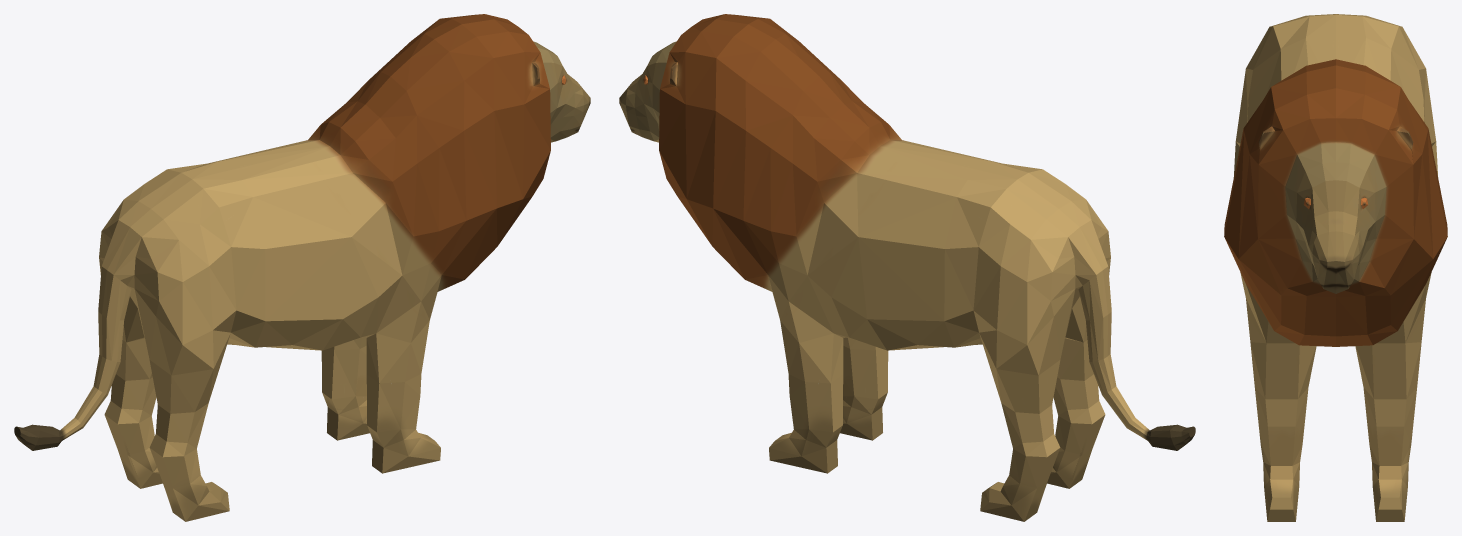
Rendered from Lion.fbx.
3 views of the same model, side by side, from view 1: azimuth 30°, elevation 25°; view 2: azimuth 150°, elevation 25°; view 3: azimuth 270°, elevation 25° (orthographic). The views are drawn at different scales.
Parts seen in each view (by area): view 1: Plane; view 2: Plane; view 3: Plane.
Part boxes in pixels (x1,y1,x2,y2): Plane: (14, 14, 590, 521); Plane: (619, 14, 1195, 521); Plane: (1224, 14, 1447, 521).
Bounding box in the file's own units: 185 × 125 × 52.18.
Materials: 1 (1 with a texture image).
